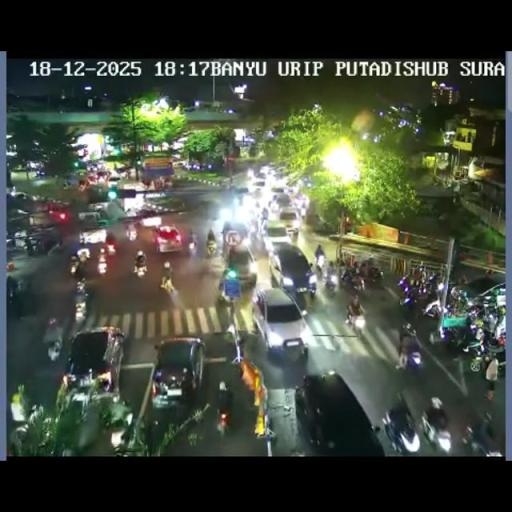Car: (294, 371, 382, 454), (60, 326, 126, 403), (252, 289, 309, 357), (150, 337, 204, 408), (268, 244, 315, 302), (221, 238, 257, 288), (142, 195, 186, 215), (155, 224, 184, 253), (278, 206, 299, 233), (77, 211, 102, 228), (272, 191, 293, 211), (249, 179, 267, 194), (108, 173, 122, 184), (172, 160, 189, 169)
Motorcycle: (68, 238, 117, 317), (67, 393, 110, 452), (435, 311, 476, 355), (382, 407, 420, 452), (460, 413, 498, 455), (473, 322, 504, 366), (421, 411, 453, 452), (110, 425, 146, 456), (6, 274, 28, 316), (397, 342, 423, 374), (8, 422, 30, 454), (398, 283, 421, 313), (223, 324, 243, 358), (340, 267, 366, 292), (346, 305, 366, 335), (464, 303, 486, 325), (216, 403, 230, 437), (422, 298, 442, 321), (259, 422, 278, 446), (448, 285, 469, 306), (24, 235, 46, 255), (256, 209, 270, 236), (159, 272, 176, 294), (324, 270, 338, 296), (74, 296, 88, 322), (366, 264, 384, 284), (216, 282, 231, 304), (47, 339, 62, 361), (424, 272, 438, 294), (97, 249, 109, 274), (307, 273, 318, 299), (46, 241, 65, 256), (401, 322, 416, 340), (221, 218, 233, 240), (133, 260, 147, 278), (74, 276, 86, 295), (125, 222, 137, 241), (248, 218, 259, 238), (105, 238, 117, 256), (76, 247, 90, 262), (187, 240, 198, 259), (70, 256, 80, 276), (206, 238, 216, 256), (358, 261, 369, 277), (162, 261, 172, 276), (315, 258, 323, 273), (458, 274, 468, 286), (78, 231, 86, 245), (300, 202, 306, 218)
